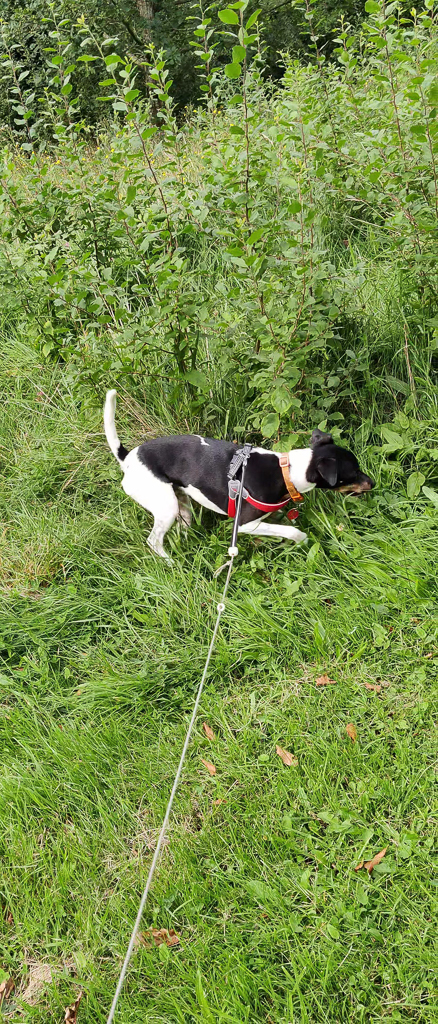Dog: (85, 378, 383, 577)
